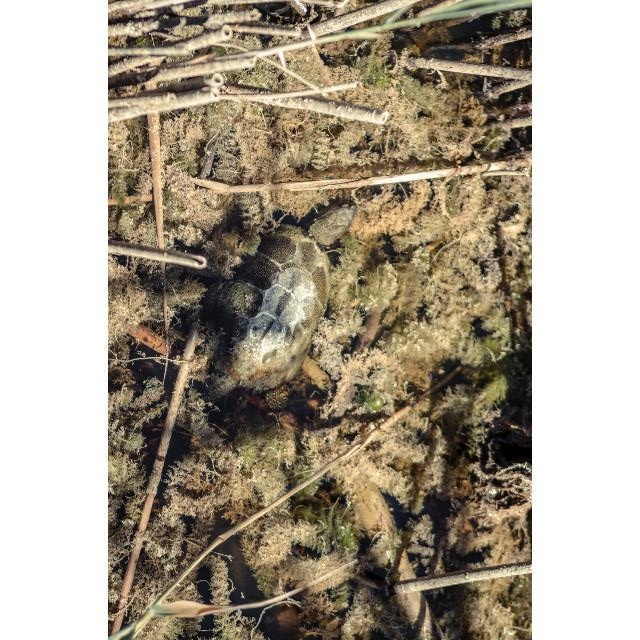turtle: (197, 199, 358, 411)
